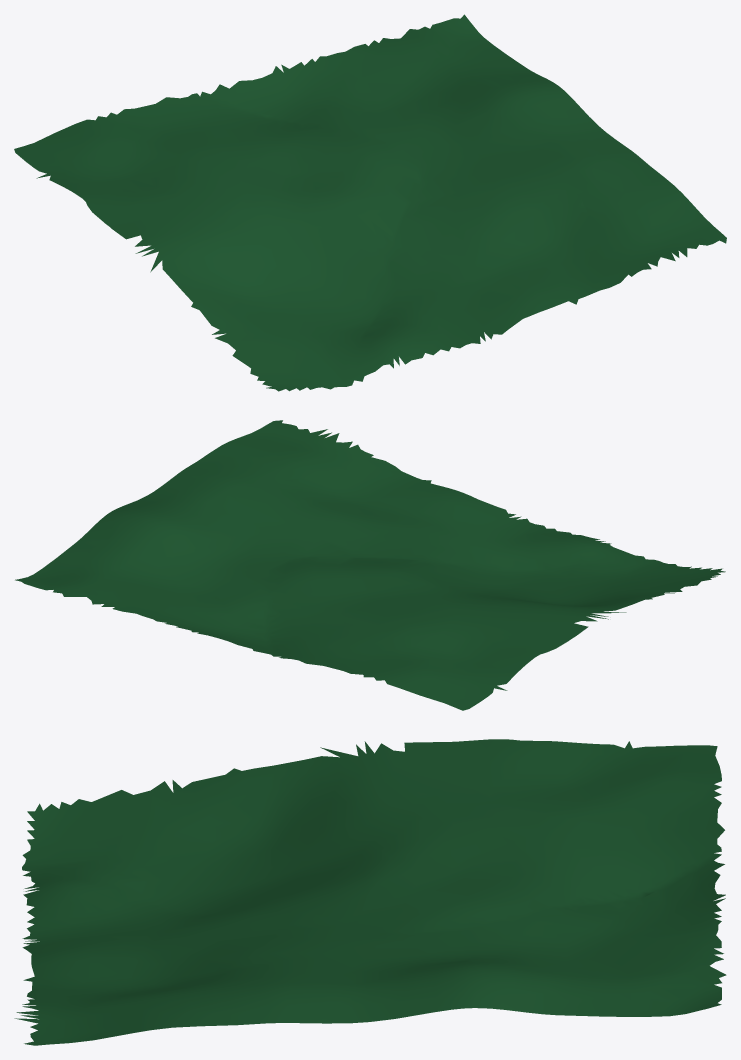
File: payo_land_x3_y1_lod1.glb
3 renders of one model, top to bottom at view 1: azimuth 30°, elevation 25°; view 2: azimuth 150°, elevation 25°; view 3: azimuth 270°, elevation 25°, orthographic. The views are drawn at different scales.
Parts seen in each view (by area): view 1: payo_land_x3_y1; view 2: payo_land_x3_y1; view 3: payo_land_x3_y1.
Part boxes in pixels (x1=…): payo_land_x3_y1: x1=14, y1=14, x2=726, y2=391; payo_land_x3_y1: x1=15, y1=420, x2=725, y2=710; payo_land_x3_y1: x1=14, y1=739, x2=726, y2=1045.
Bounding box in the file's own units: 262 × 45.18 × 265.
